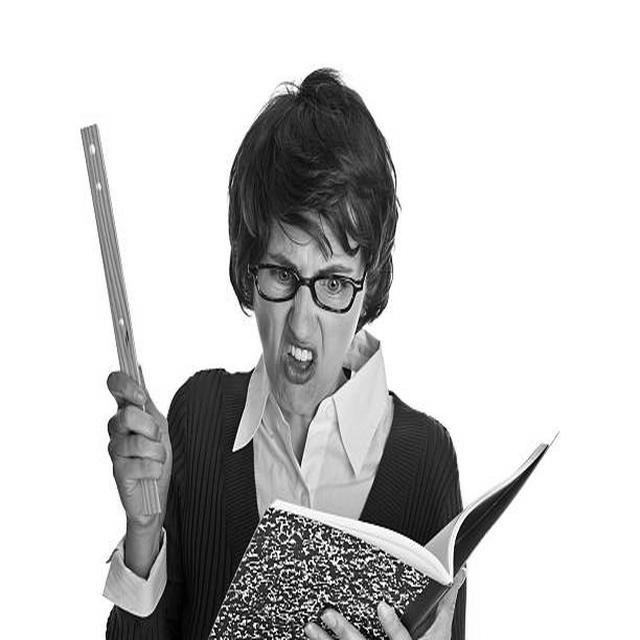Angry: (252, 203, 366, 414)
